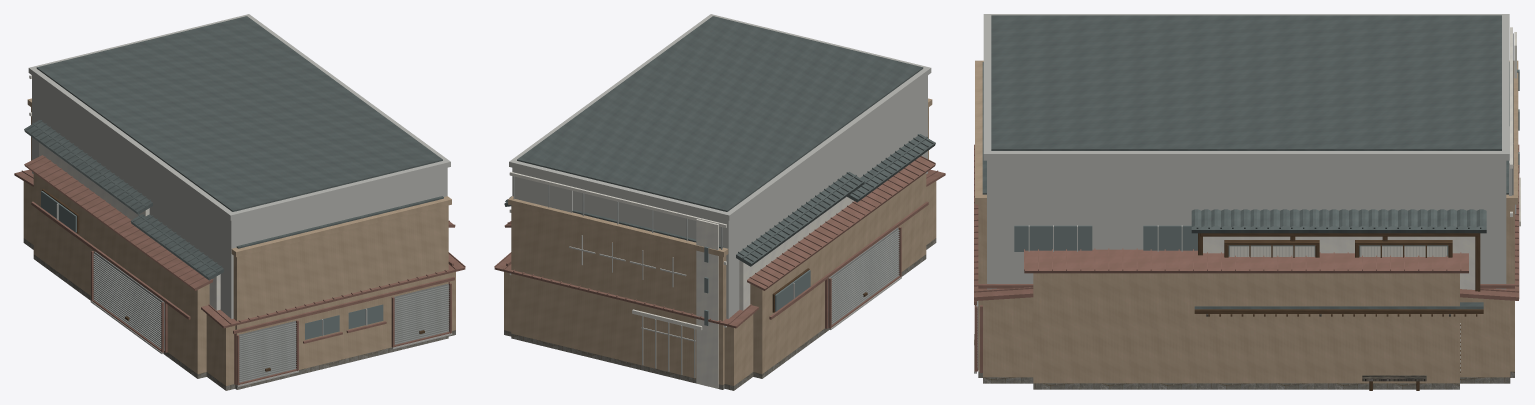
Rendered from act1-frontage.glb.
3 renders of one model, left to right at view 1: azimuth 30°, elevation 25°; view 2: azimuth 150°, elevation 25°; view 3: azimuth 270°, elevation 25°, orthographic. The views are drawn at different scales.
Visible parts, largest first — view 1: 236248712-ACT1 mineral roof tile.003, 236248631-ACT1 textured ochre workshop wall.001, 236248712-ACT1 weathered concrete.014, 236248688-ACT1 textured ochre workshop wall.001, 236248688-ACT1 weathered painted roof metal.001, 236248633-ACT1 brushed rolling steel.001, 236248652-ACT1 mineral roof tile.003, 236248633-ACT1 weathered painted roof metal.001, 236248688-ACT1 brushed rolling steel.001, 236248633-ACT1 textured ochre workshop wall.001, 236248652-ACT1 fine weathered lime plaster.003, 236248633-ACT1 dark window.014 (+4 smaller); view 2: 236248712-ACT1 mineral roof tile.003, 236248631-ACT1 textured ochre workshop wall.001, 236248712-ACT1 weathered concrete.014, 236248688-ACT1 textured ochre workshop wall.001, 236248688-ACT1 weathered painted roof metal.001, 236248712-ACT1 fine weathered lime plaster.003, 236248652-ACT1 mineral roof tile.003, 236248688-ACT1 brushed rolling steel.001, 236248633-ACT1 textured ochre workshop wall.001, 236248633-ACT1 weathered painted roof metal.001, 236248652-ACT1 fine weathered lime plaster.003, 236248631-Foundation granite.055 (+3 smaller); view 3: 236248712-ACT1 mineral roof tile.003, 236248688-ACT1 textured ochre workshop wall.001, 236248712-ACT1 weathered concrete.014, 236248688-ACT1 weathered painted roof metal.001, 236248652-ACT1 mineral roof tile.003, 236248633-ACT1 textured ochre workshop wall.001, 236248652-ACT1 stained timber grain.003, 236248631-ACT1 textured ochre workshop wall.001, 236248631-ACT1 dark window.014, 236248688-Foundation granite.055, 236248633-ACT1 weathered painted roof metal.001, 236248652-ACT1 fine weathered lime plaster.003 (+6 smaller).
Part boxes in pixels (left/top/right/bottom): 236248712-ACT1 mineral roof tile.003: left=36, top=16, right=442, bottom=211; 236248631-ACT1 textured ochre workshop wall.001: left=27, top=98, right=451, bottom=384; 236248712-ACT1 weathered concrete.014: left=28, top=14, right=450, bottom=318; 236248688-ACT1 textured ochre workshop wall.001: left=33, top=173, right=209, bottom=373; 236248688-ACT1 weathered painted roof metal.001: left=24, top=155, right=455, bottom=352; 236248633-ACT1 brushed rolling steel.001: left=238, top=283, right=449, bottom=382; 236248652-ACT1 mineral roof tile.003: left=24, top=120, right=223, bottom=280; 236248633-ACT1 weathered painted roof metal.001: left=14, top=169, right=465, bottom=385; 236248688-ACT1 brushed rolling steel.001: left=93, top=251, right=164, bottom=350; 236248633-ACT1 textured ochre workshop wall.001: left=23, top=181, right=455, bottom=385; 236248652-ACT1 fine weathered lime plaster.003: left=39, top=142, right=220, bottom=310; 236248633-ACT1 dark window.014: left=305, top=304, right=383, bottom=339; 236248712-ACT1 mineral roof tile.003: left=517, top=16, right=923, bottom=211; 236248631-ACT1 textured ochre workshop wall.001: left=508, top=98, right=932, bottom=384; 236248712-ACT1 weathered concrete.014: left=509, top=14, right=931, bottom=377; 236248688-ACT1 textured ochre workshop wall.001: left=750, top=173, right=926, bottom=373; 236248688-ACT1 weathered painted roof metal.001: left=504, top=156, right=935, bottom=328; 236248712-ACT1 fine weathered lime plaster.003: left=509, top=172, right=726, bottom=388; 236248652-ACT1 mineral roof tile.003: left=504, top=134, right=935, bottom=266; 236248688-ACT1 brushed rolling steel.001: left=828, top=227, right=899, bottom=326; 236248633-ACT1 textured ochre workshop wall.001: left=504, top=181, right=936, bottom=385; 236248633-ACT1 weathered painted roof metal.001: left=494, top=169, right=945, bottom=328; 236248652-ACT1 fine weathered lime plaster.003: left=739, top=196, right=854, bottom=310; 236248631-Foundation granite.055: left=511, top=333, right=724, bottom=389; 236248712-ACT1 mineral roof tile.003: left=991, top=15, right=1501, bottom=150; 236248688-ACT1 textured ochre workshop wall.001: left=1033, top=273, right=1459, bottom=383; 236248712-ACT1 weathered concrete.014: left=983, top=14, right=1516, bottom=289; 236248688-ACT1 weathered painted roof metal.001: left=1024, top=248, right=1468, bottom=273; 236248652-ACT1 mineral roof tile.003: left=1191, top=209, right=1486, bottom=309; 236248633-ACT1 textured ochre workshop wall.001: left=983, top=297, right=1510, bottom=377; 236248652-ACT1 stained timber grain.003: left=1194, top=233, right=1483, bottom=390; 236248631-ACT1 textured ochre workshop wall.001: left=975, top=60, right=1518, bottom=371; 236248631-ACT1 dark window.014: left=1014, top=225, right=1197, bottom=251; 236248688-Foundation granite.055: left=1033, top=383, right=1459, bottom=389; 236248633-ACT1 weathered painted roof metal.001: left=974, top=144, right=1519, bottom=372; 236248652-ACT1 fine weathered lime plaster.003: left=1203, top=236, right=1475, bottom=373.
Size of the model in its own units: 13.35 by 8.59 by 18.64.
Materials: 13 (8 with a texture image).
